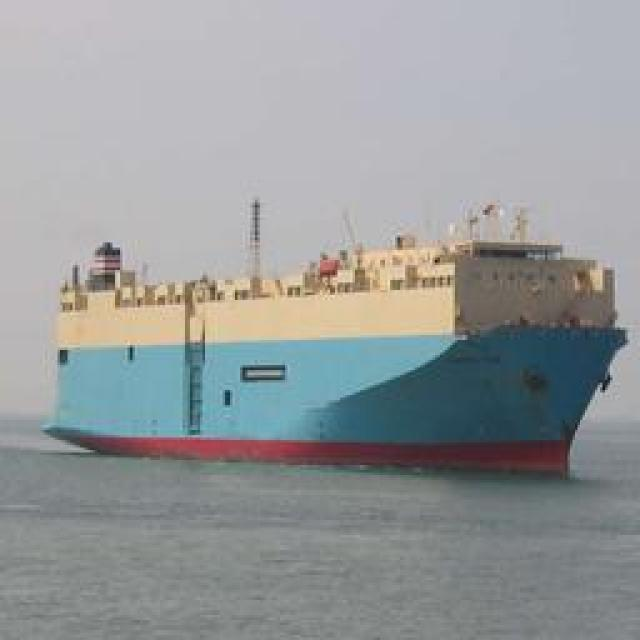CIV_Ship: (44, 205, 628, 463)
